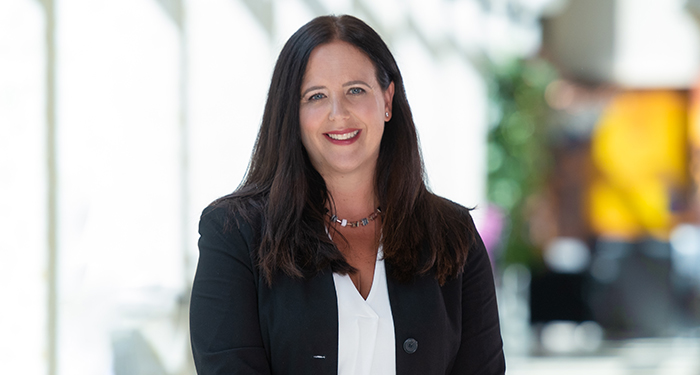without_mask: (287, 35, 396, 174)
